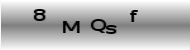8: (32, 8, 47, 22)
M: (62, 20, 81, 34)
Q: (90, 18, 106, 34)
f: (129, 9, 139, 23)
s: (105, 24, 118, 36)
